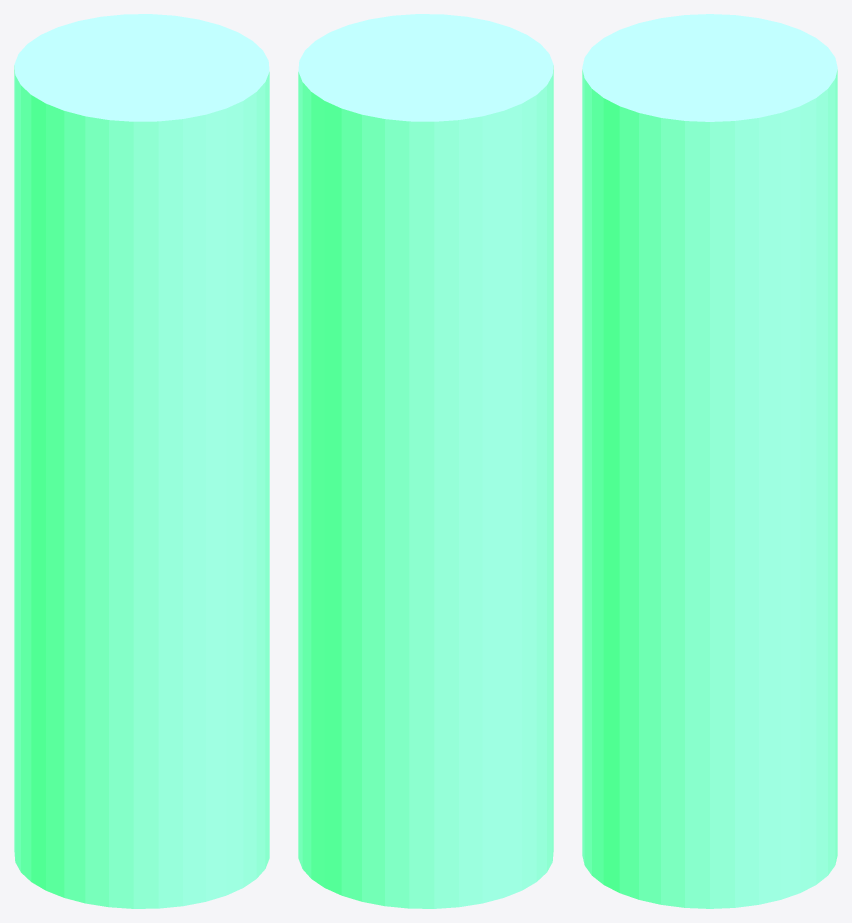
The model's file is Bullet4.fbx.
The picture shows the model from 3 angles, left to right: view 1: azimuth 30°, elevation 25°; view 2: azimuth 150°, elevation 25°; view 3: azimuth 270°, elevation 25°; orthographic projection.
Parts seen in each view (by area): view 1: Cylinder; view 2: Cylinder; view 3: Cylinder.
Part boxes in pixels (x1,y1,x2,y2): Cylinder: (14,14,269,908); Cylinder: (298,14,553,908); Cylinder: (582,14,837,908).
Bounding box in the file's own units: 0.1227 × 0.4169 × 0.1227.
